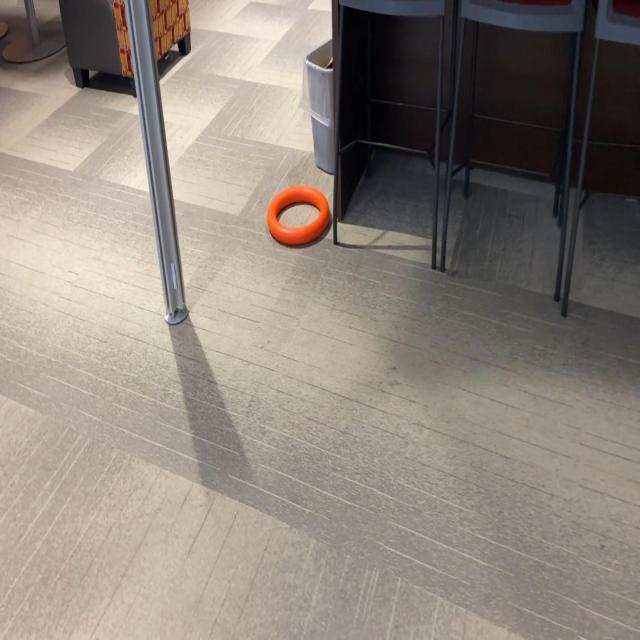note: (265, 183, 333, 248)
